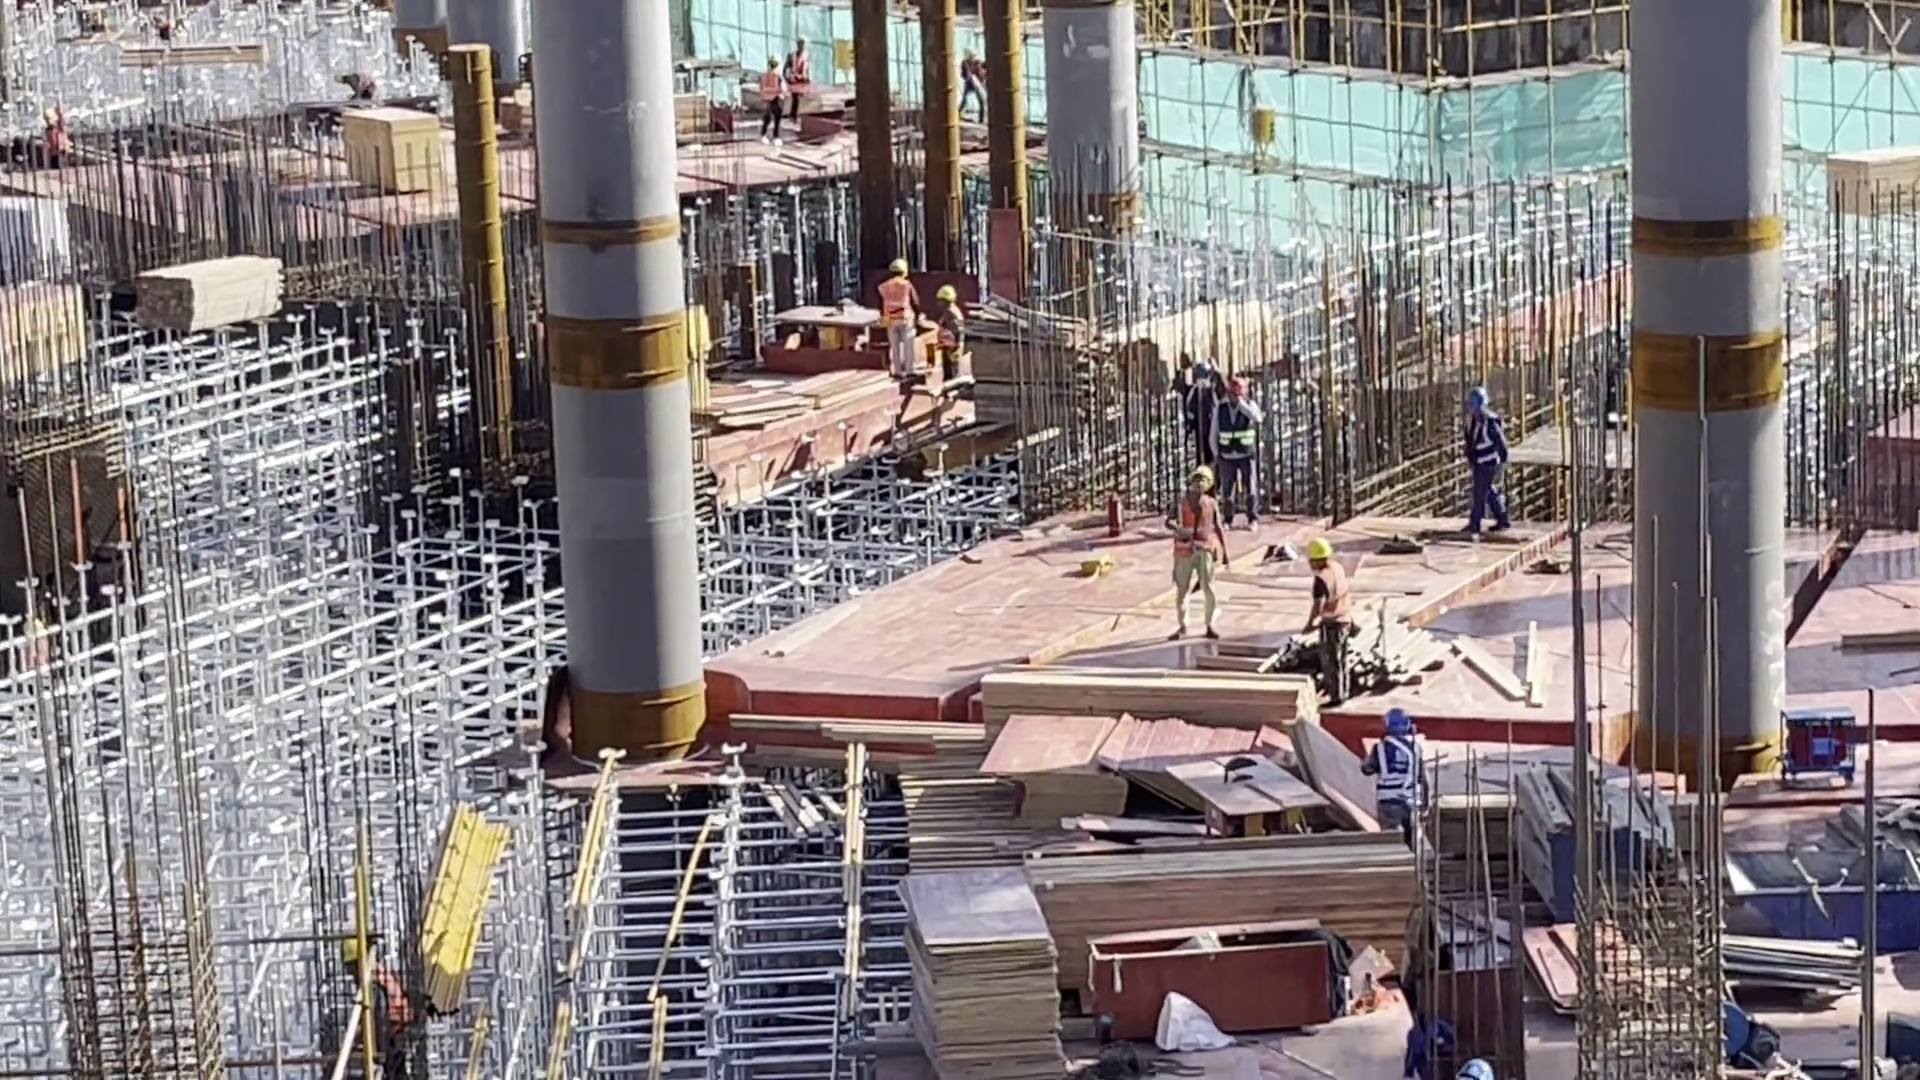board: (863, 685, 1391, 907), (917, 864, 1051, 1076), (421, 805, 519, 1005)
helmet: (1379, 703, 1414, 733), (873, 249, 909, 278), (1300, 531, 1329, 562), (930, 280, 954, 314), (1187, 462, 1213, 489), (1465, 389, 1491, 417), (1191, 356, 1214, 386), (1225, 380, 1243, 405), (962, 44, 979, 62), (765, 57, 782, 73), (794, 34, 811, 49)
hook: (1078, 909, 1347, 1024)
hopper: (1726, 798, 1917, 942)
person: (1166, 463, 1233, 645), (1298, 536, 1361, 705), (1366, 702, 1433, 836), (1455, 387, 1514, 537), (1220, 380, 1267, 532), (875, 260, 930, 379), (1177, 352, 1225, 467), (779, 32, 820, 125), (931, 287, 967, 383), (757, 58, 788, 145), (956, 44, 987, 127)
vest: (1174, 494, 1224, 580), (1375, 736, 1426, 816), (1304, 565, 1353, 635), (1456, 421, 1501, 481), (880, 276, 911, 335), (789, 50, 812, 101), (763, 71, 781, 107)
wood: (978, 304, 1125, 456), (1718, 931, 1858, 1009), (138, 256, 280, 328), (708, 375, 886, 422)
